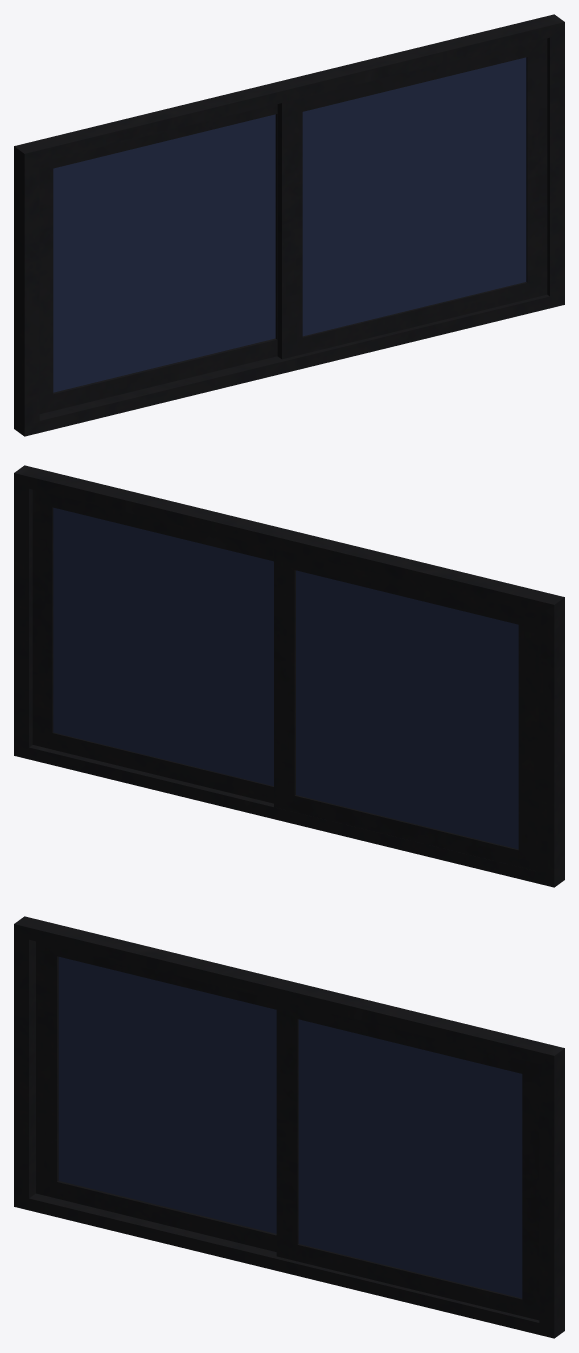
The model's file is sb_obj_ModernCity029_window_a4.fbx.
3 renders of one model, top to bottom at view 1: azimuth 30°, elevation 25°; view 2: azimuth 150°, elevation 25°; view 3: azimuth 330°, elevation 25°, orthographic.
Parts seen in each view (by area): view 1: sb_obj_ModernCity029_window_a4; view 2: sb_obj_ModernCity029_window_a4; view 3: sb_obj_ModernCity029_window_a4.
Boxes of the visible parts, <box> form: sb_obj_ModernCity029_window_a4: <box>14,14,564,436</box>; sb_obj_ModernCity029_window_a4: <box>14,465,564,887</box>; sb_obj_ModernCity029_window_a4: <box>14,916,564,1338</box>.
Bounding box in the file's own units: 2 × 0.9997 × 0.0677.
